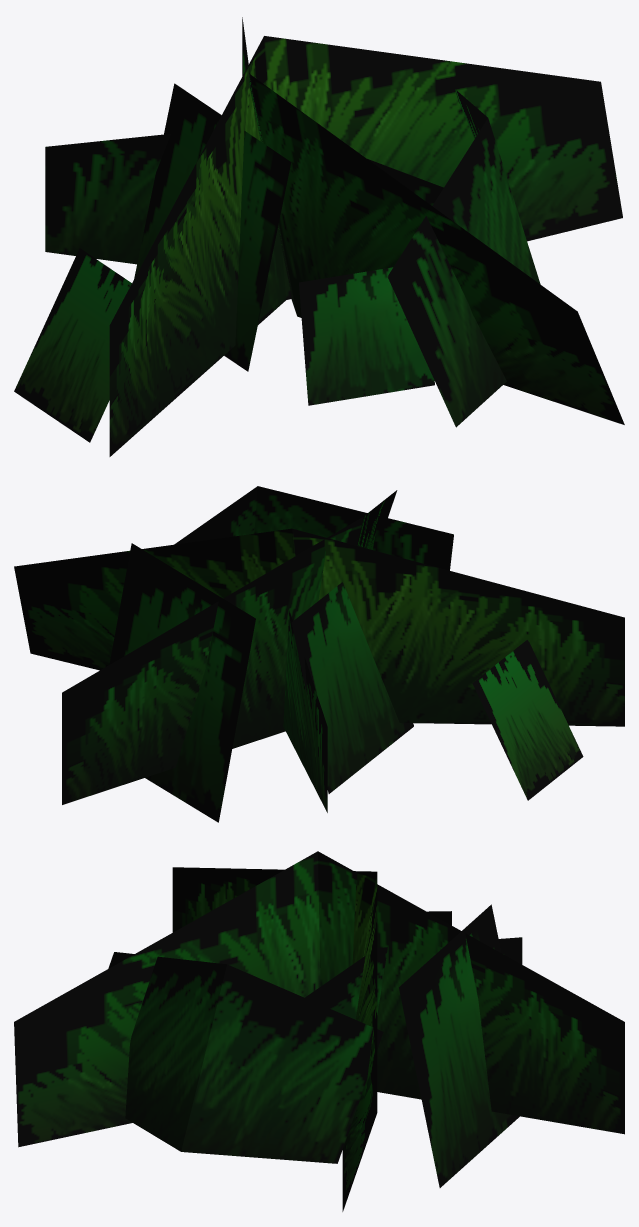
The model's file is grass1.glb.
3 renders of one model, top to bottom at view 1: azimuth 30°, elevation 25°; view 2: azimuth 150°, elevation 25°; view 3: azimuth 270°, elevation 25°, orthographic. The views are drawn at different scales.
Parts seen in each view (by area): view 1: grass1; view 2: grass1; view 3: grass1.
Boxes of the visible parts, box(x1,y1,x2,y2) form: grass1: box(14, 17, 624, 456); grass1: box(14, 486, 624, 822); grass1: box(14, 851, 624, 1211).
Size of the model in its own units: 1.66 by 0.7389 by 1.73.
Materials: 1 (1 with a texture image).
